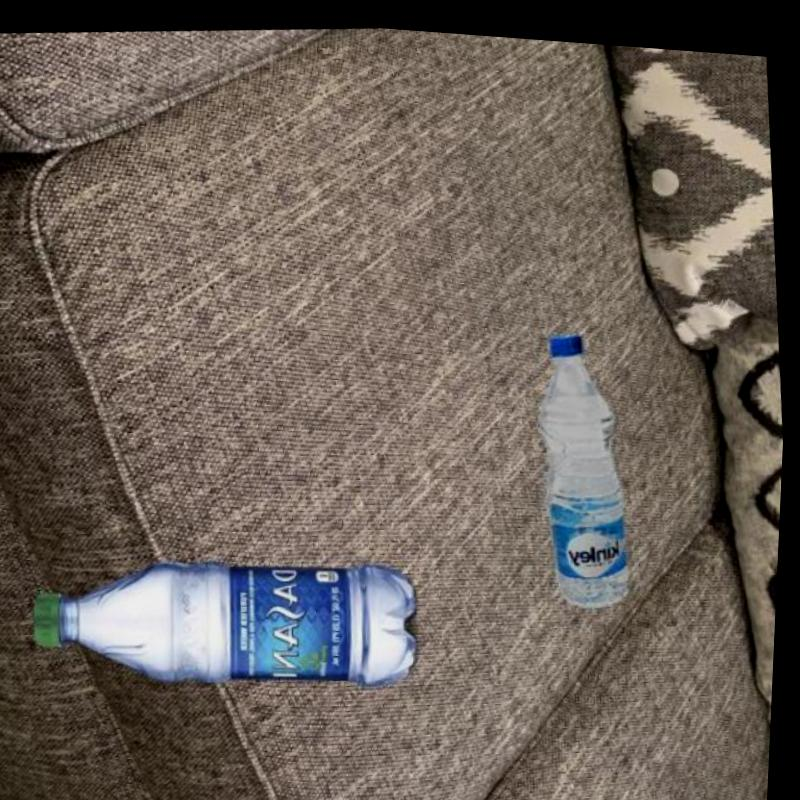botella: (28, 526, 429, 713), (529, 317, 643, 610)
